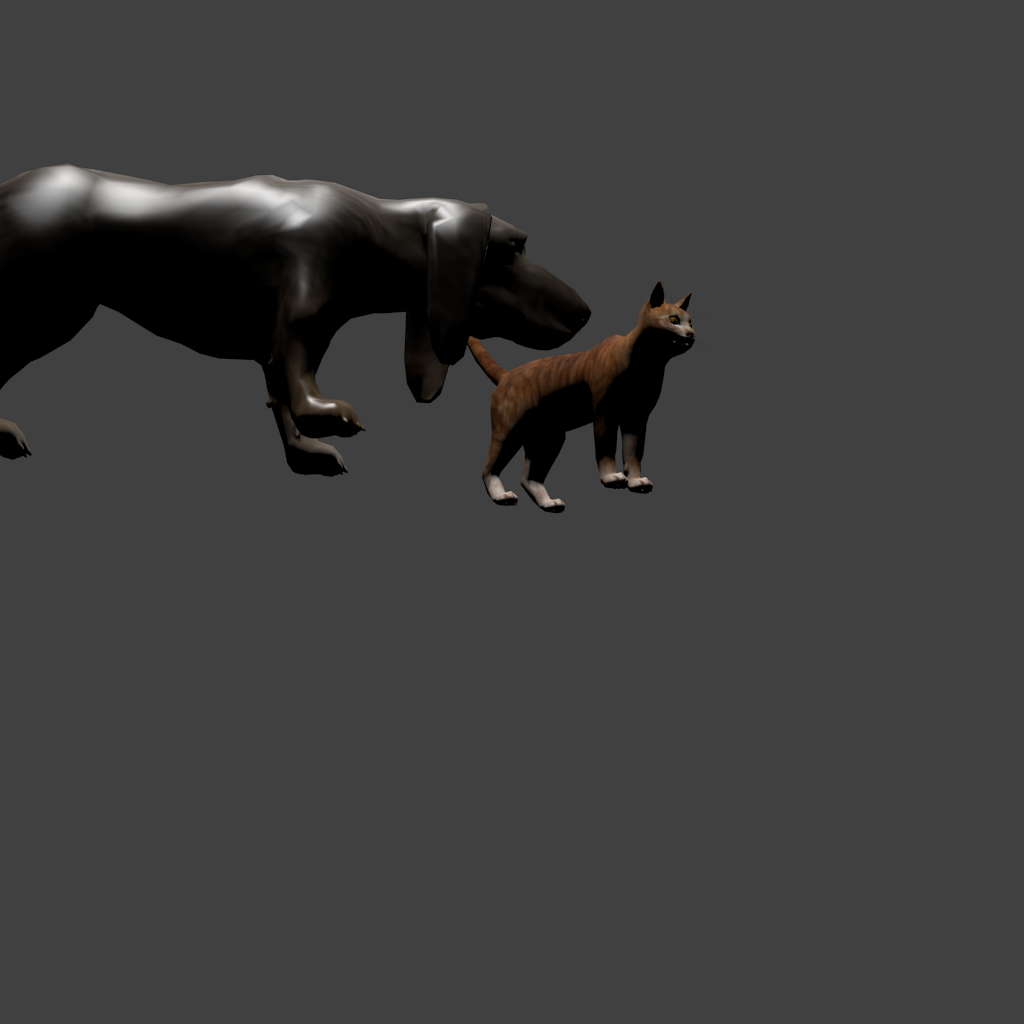Dog: (0, 0, 1024, 1024), (0, 164, 592, 313)
